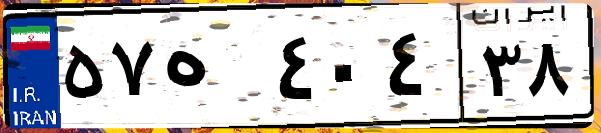0: (330, 28, 385, 110)
3: (475, 38, 525, 113)
4: (270, 28, 330, 110), (385, 28, 445, 110)
5: (57, 26, 110, 100)
7: (110, 28, 158, 98)
8: (525, 38, 570, 115)
ه: (158, 20, 270, 120)
